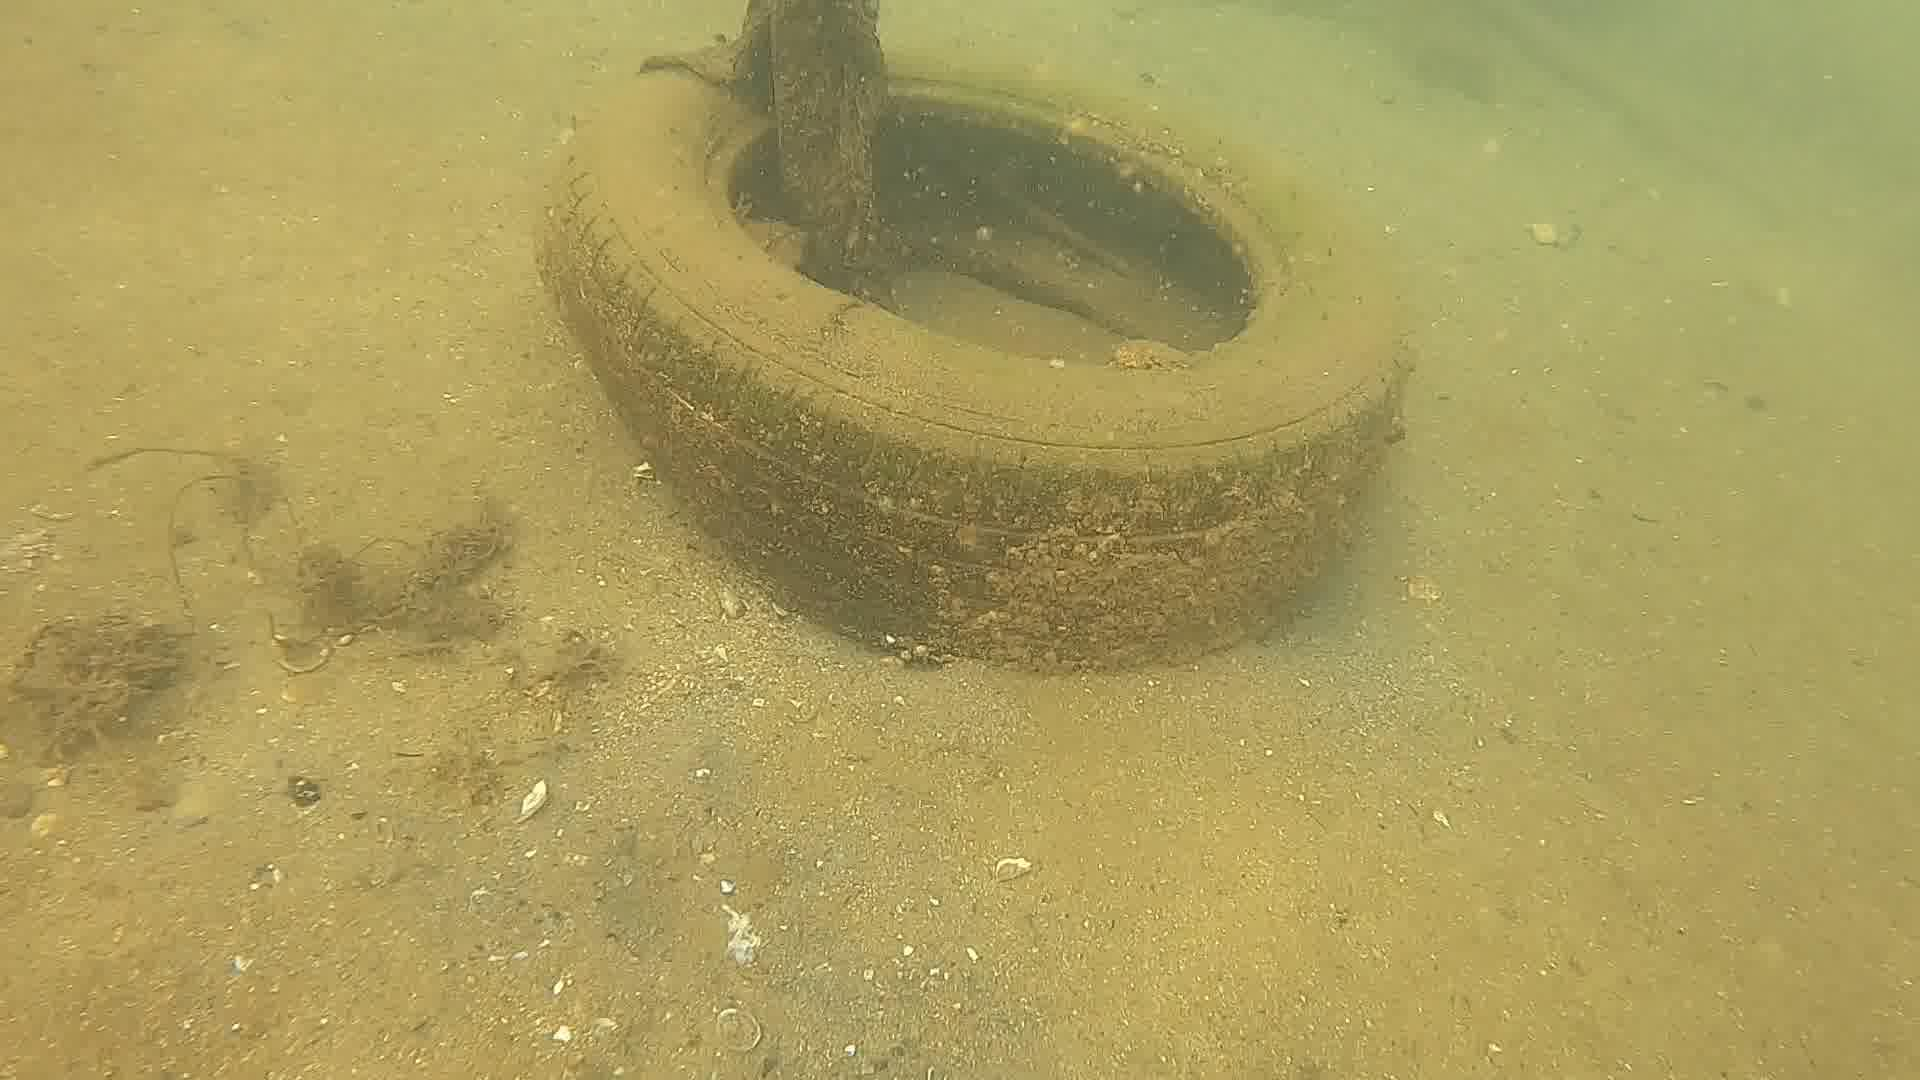tire: (530, 33, 1424, 671)
